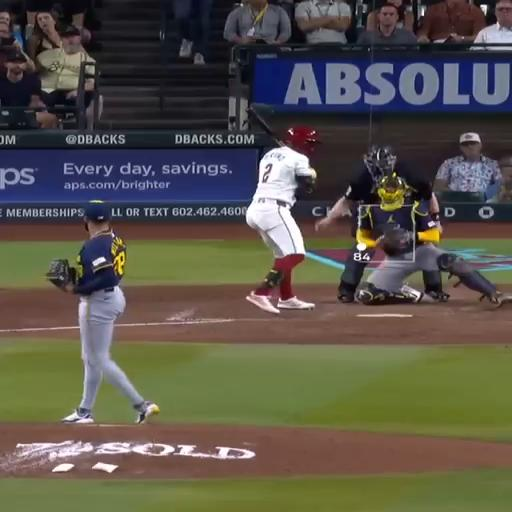bat: (247, 106, 285, 146)
